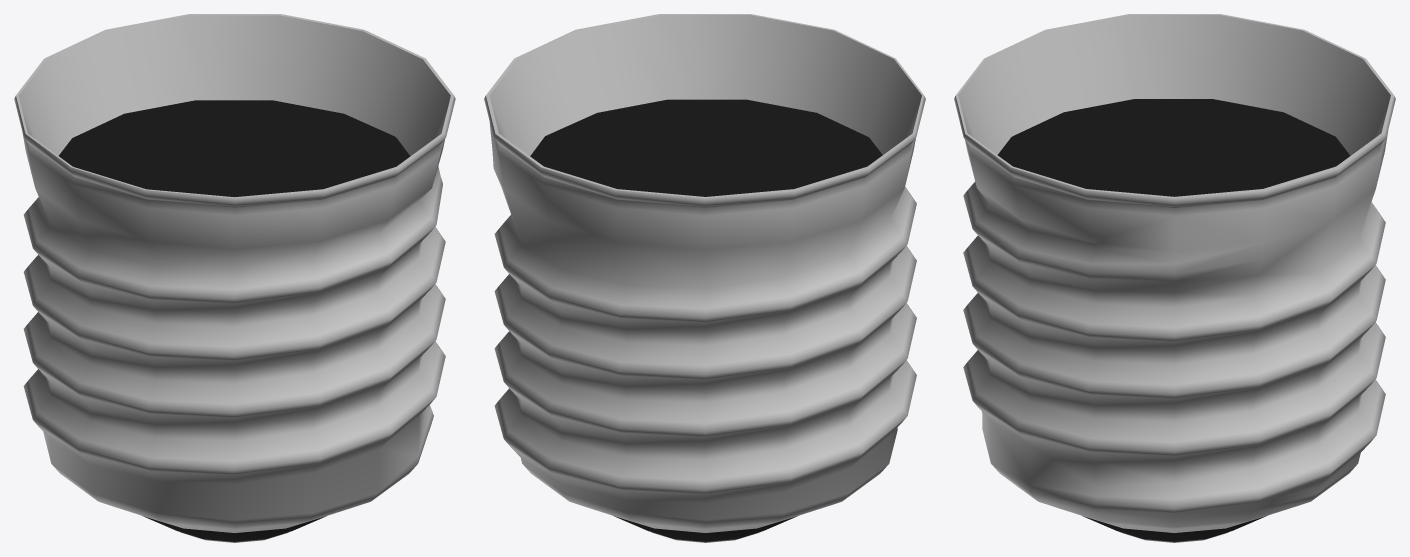
Rendered from SM_Glow_Bulb_Socle.FBX.
3 views of the same model, side by side, from view 1: azimuth 30°, elevation 25°; view 2: azimuth 150°, elevation 25°; view 3: azimuth 270°, elevation 25° (orthographic).
Visible parts, largest first — view 1: Glow_Bulb_Socle; view 2: Glow_Bulb_Socle; view 3: Glow_Bulb_Socle.
Boxes of the visible parts, x1,y1,x2,y2 form: Glow_Bulb_Socle: (14,14,455,542); Glow_Bulb_Socle: (484,14,925,542); Glow_Bulb_Socle: (954,14,1395,542).
Bounding box in the file's own units: 3.31 × 3.33 × 3.39.
